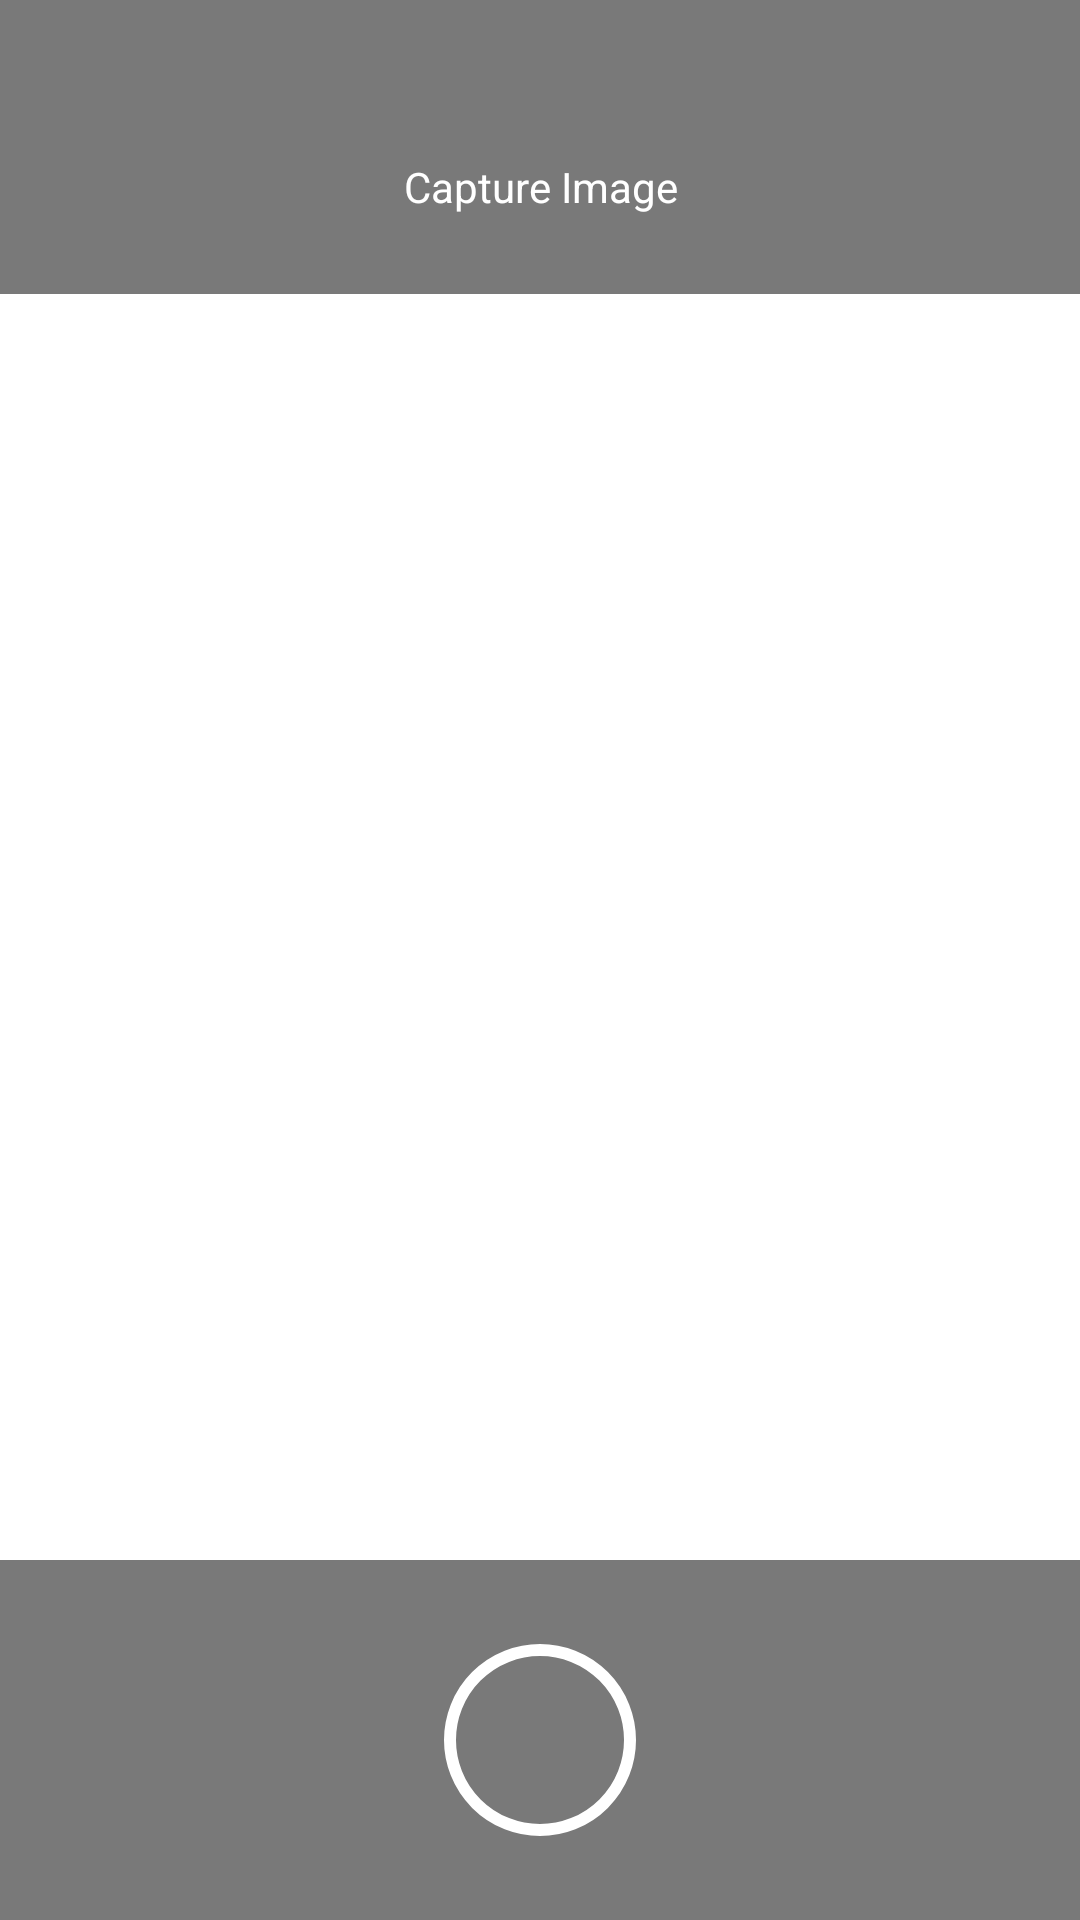

Icons on this 1080px×1920px Android screen, each with the point to tap as point (x, y):
capture: point (540, 1740)
